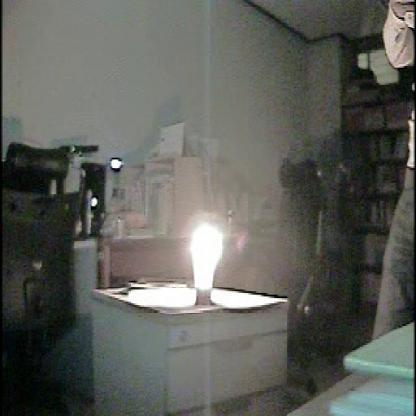fire: (172, 202, 249, 314)
